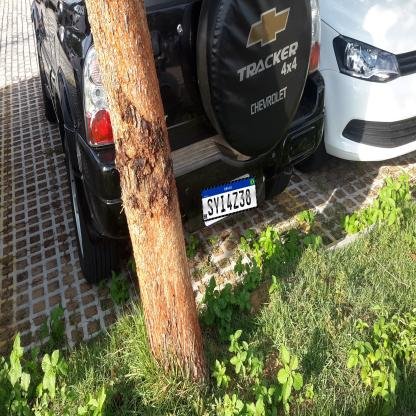PlacaM: (200, 175, 258, 222)
